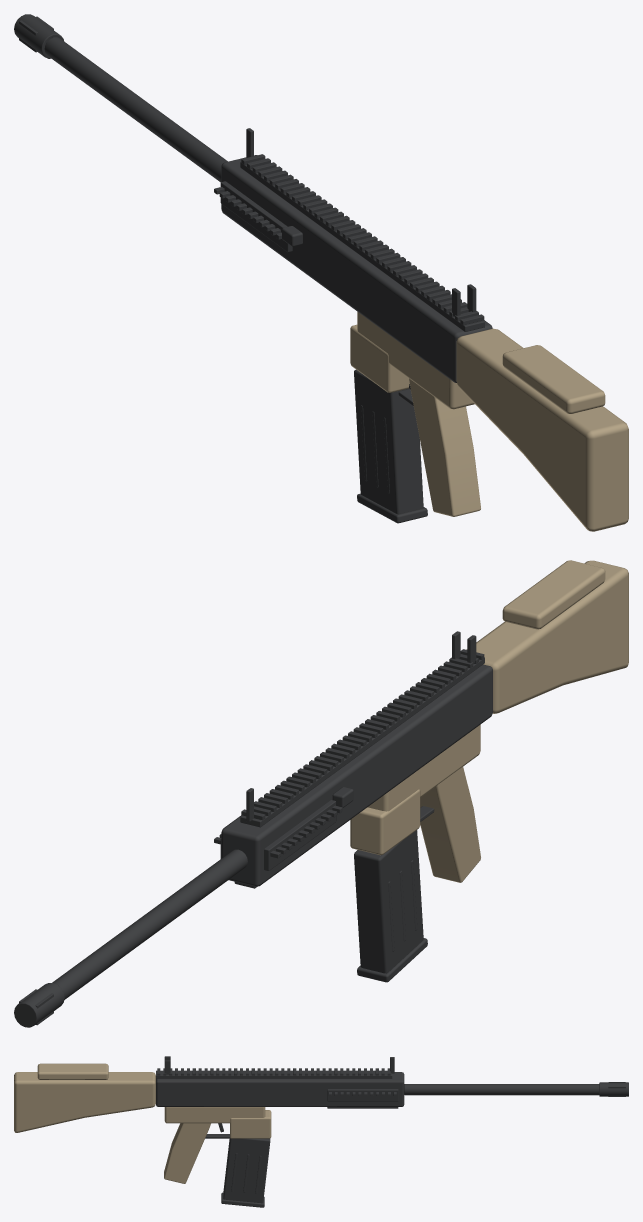
Rendered from scar_h.glb.
The picture shows the model from 3 angles, top to bottom: view 1: azimuth 30°, elevation 25°; view 2: azimuth 150°, elevation 25°; view 3: azimuth 270°, elevation 25°; orthographic projection. The views are drawn at different scales.
Parts seen in each view (by area): view 1: Stock, Upper, Mag_body, Grip, TopRail_teeth, Barrel, Cheek, Lower, Magwell, TopRail, SideRail, FlashHider (+1 smaller); view 2: Upper, Stock, Mag_body, TopRail_teeth, Barrel, Grip, Cheek, Magwell, Lower, TopRail, SideRail, FlashHider (+2 smaller); view 3: Upper, Stock, Mag_body, Barrel, Grip, TopRail, Lower, Cheek, TopRail_teeth, Magwell, SideRail.001, FlashHider (+1 smaller).
Boxes of the visible parts, x1,y1,x2,y2 form: Stock: (456, 328, 628, 531); Upper: (221, 155, 492, 382); Mag_body: (354, 369, 423, 514); Grip: (409, 378, 480, 516); TopRail_teeth: (241, 154, 484, 325); Barrel: (44, 37, 227, 182); Cheek: (502, 345, 605, 413); Lower: (357, 312, 474, 409); Magwell: (350, 324, 409, 392); TopRail: (240, 162, 484, 331); SideRail: (220, 181, 292, 252); FlashHider: (14, 14, 63, 58); Upper: (221, 664, 492, 886); Stock: (466, 560, 628, 713); Mag_body: (354, 830, 423, 973); TopRail_teeth: (241, 649, 484, 820); Barrel: (52, 849, 247, 999); Grip: (420, 766, 480, 882); Cheek: (502, 560, 605, 629); Magwell: (350, 789, 420, 855); Lower: (368, 724, 480, 811); TopRail: (240, 657, 484, 827); SideRail: (264, 800, 336, 870); FlashHider: (14, 983, 64, 1027); Upper: (156, 1072, 404, 1106); Stock: (14, 1072, 155, 1132); Mag_body: (223, 1138, 270, 1203); Barrel: (404, 1084, 599, 1095); Grip: (164, 1123, 210, 1183); TopRail: (156, 1070, 392, 1078); Lower: (164, 1107, 265, 1123); Cheek: (37, 1063, 108, 1079); TopRail_teeth: (157, 1068, 390, 1075); Magwell: (230, 1110, 271, 1138); SideRail.001: (327, 1089, 398, 1101); FlashHider: (599, 1082, 628, 1096).
Bounding box in the file's own units: 0.066 × 0.2739 × 1.04.
